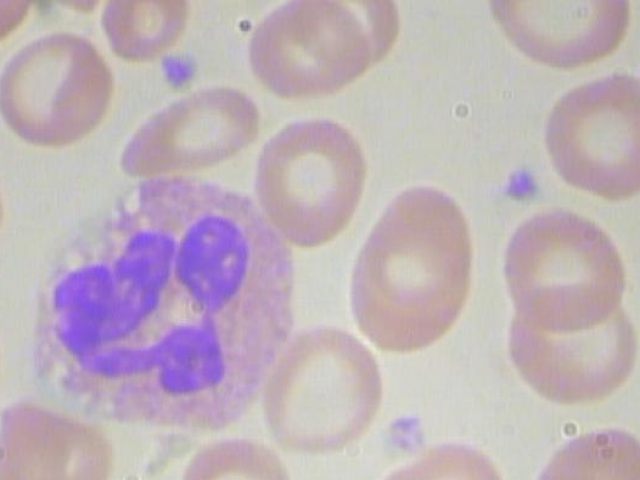Platelets: (376, 409, 437, 462), (491, 160, 546, 213), (159, 47, 206, 94)
RBC: (340, 182, 482, 358), (250, 108, 373, 250), (261, 319, 386, 457), (497, 204, 634, 329), (502, 280, 639, 405), (118, 77, 266, 184), (536, 67, 640, 205), (0, 30, 116, 148), (248, 0, 375, 98), (488, 0, 634, 67), (97, 0, 189, 74), (0, 0, 41, 54), (39, 0, 137, 19), (172, 0, 307, 2)
WBC: (25, 161, 314, 442)
